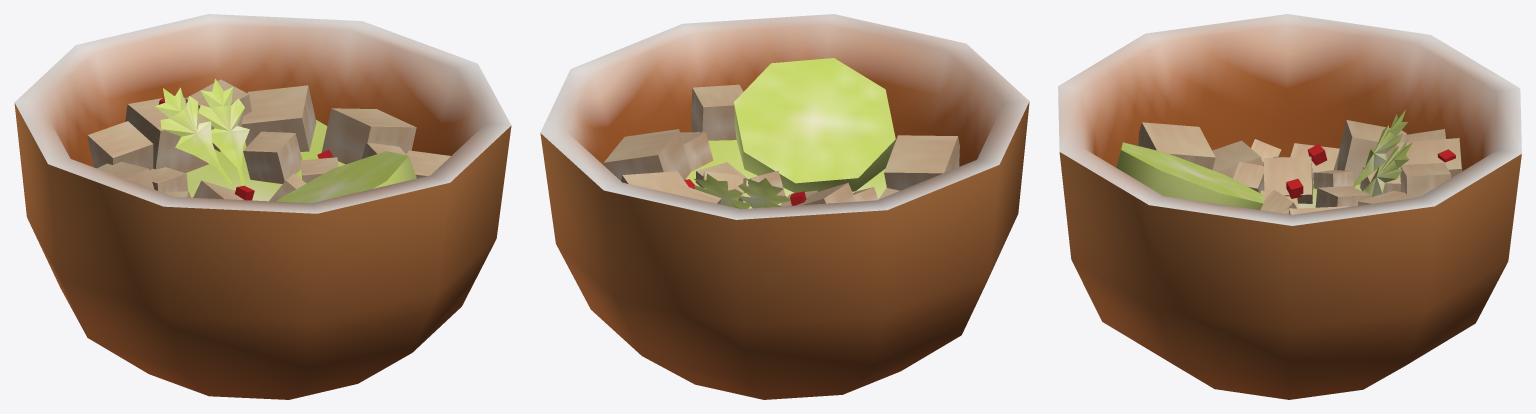
File: H_BowlCeviche.fbx
3 renders of one model, left to right at view 1: azimuth 30°, elevation 25°; view 2: azimuth 150°, elevation 25°; view 3: azimuth 270°, elevation 25°, orthographic. The views are drawn at different scales.
Visible parts, largest first — view 1: BowlCeviche; view 2: BowlCeviche; view 3: BowlCeviche.
Part boxes in pixels (<box>): BowlCeviche: <box>14,14,511,399</box>; BowlCeviche: <box>540,14,1029,399</box>; BowlCeviche: <box>1058,14,1521,399</box>.
Bounding box in the file's own units: 27.48 × 14.48 × 26.22.
